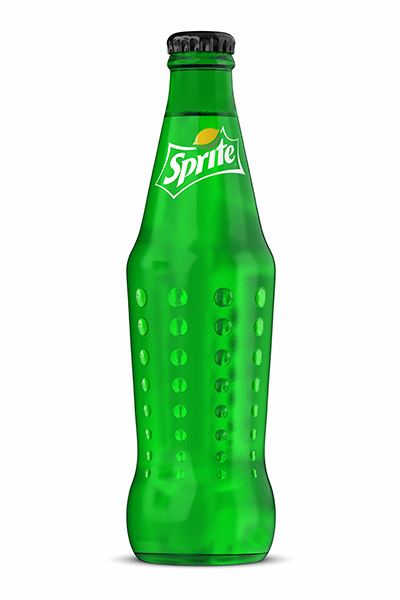sprite_bottle: (125, 33, 277, 565)
